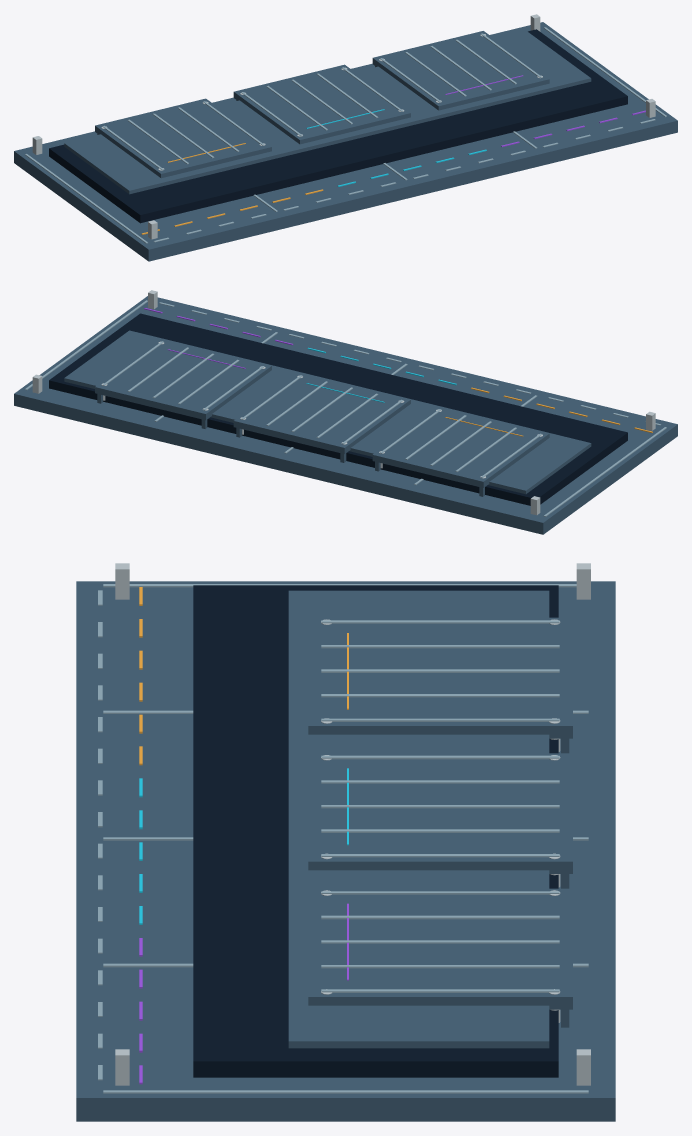
The model's file is 00_L77_IndustrialCopperPlanarizationBase.fbx.
3 views of the same model, one above another, from view 1: azimuth 30°, elevation 25°; view 2: azimuth 150°, elevation 25°; view 3: azimuth 270°, elevation 25° (orthographic). The views are drawn at different scales.
Parts seen in each view (by area): view 1: IndustrialCopperPlanarizationBase; view 2: IndustrialCopperPlanarizationBase; view 3: IndustrialCopperPlanarizationBase.
Boxes of the visible parts, left/top/right/bottom form: IndustrialCopperPlanarizationBase: left=14, top=14, right=677, bottom=261; IndustrialCopperPlanarizationBase: left=14, top=290, right=677, bottom=534; IndustrialCopperPlanarizationBase: left=76, top=563, right=615, bottom=1121.
Size of the model in its own units: 2040 by 108 by 900.
